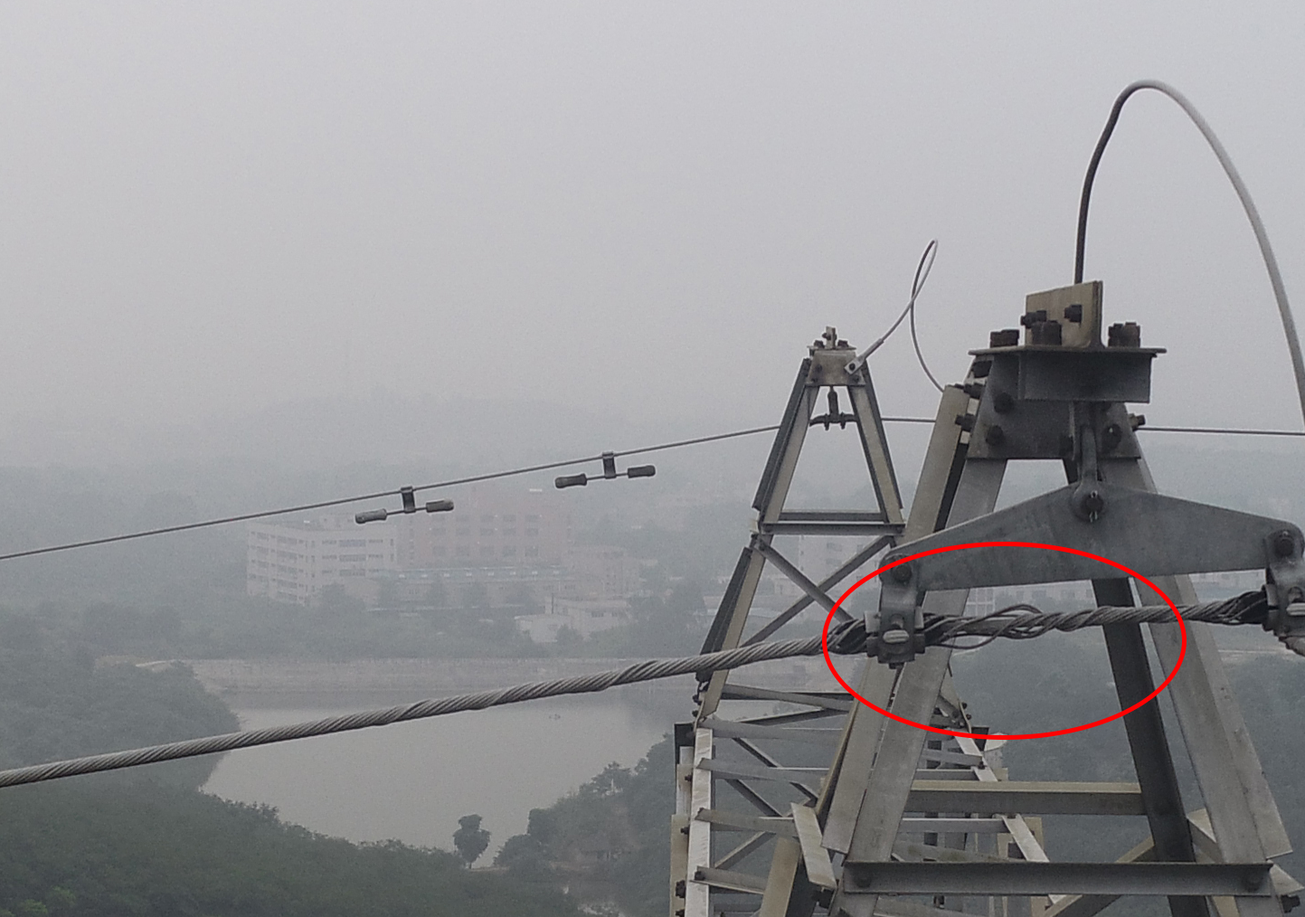damper: (550, 449, 658, 492), (352, 484, 456, 526)
